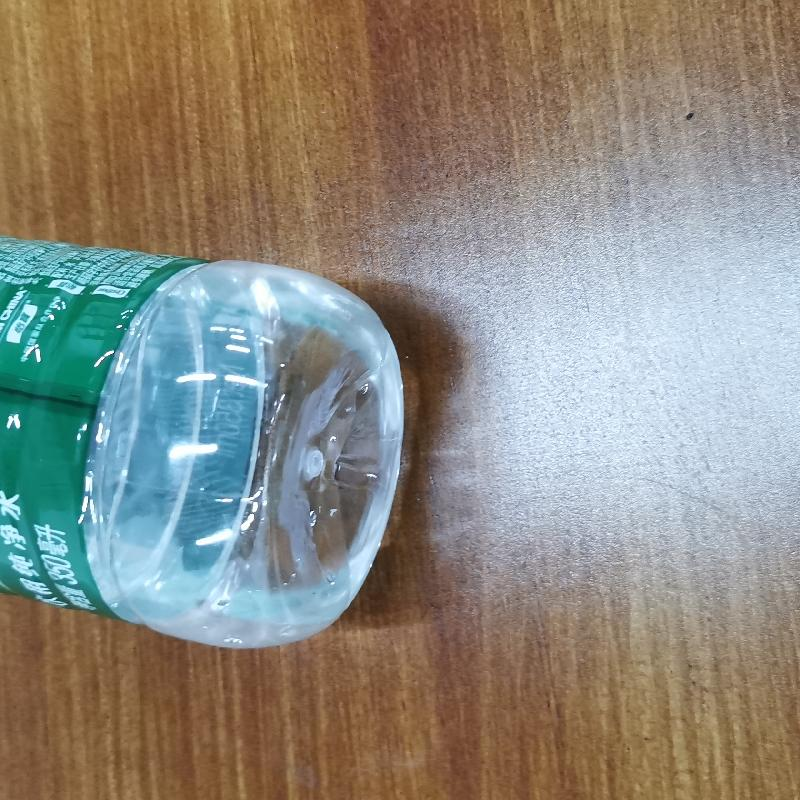bottles: (1, 213, 409, 659)
